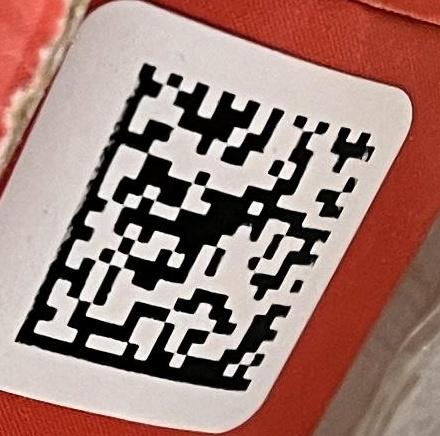datamatrix: (14, 61, 377, 394)
